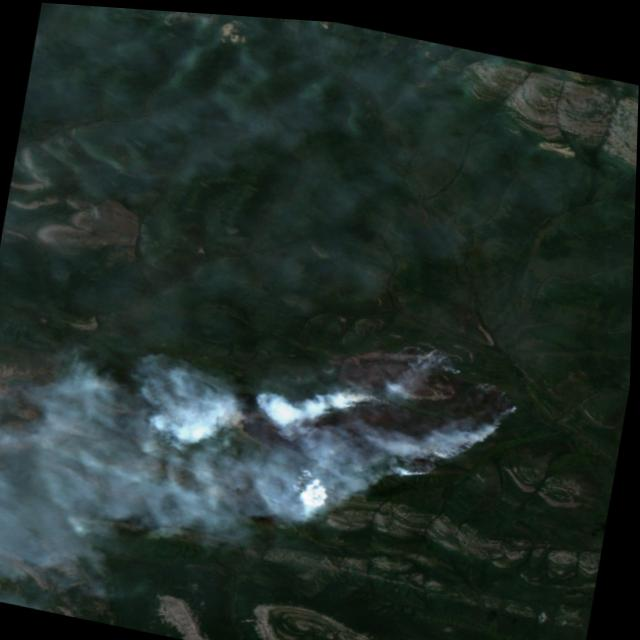fire: (480, 386, 541, 453), (330, 368, 398, 422), (409, 325, 477, 374), (396, 430, 455, 479)
